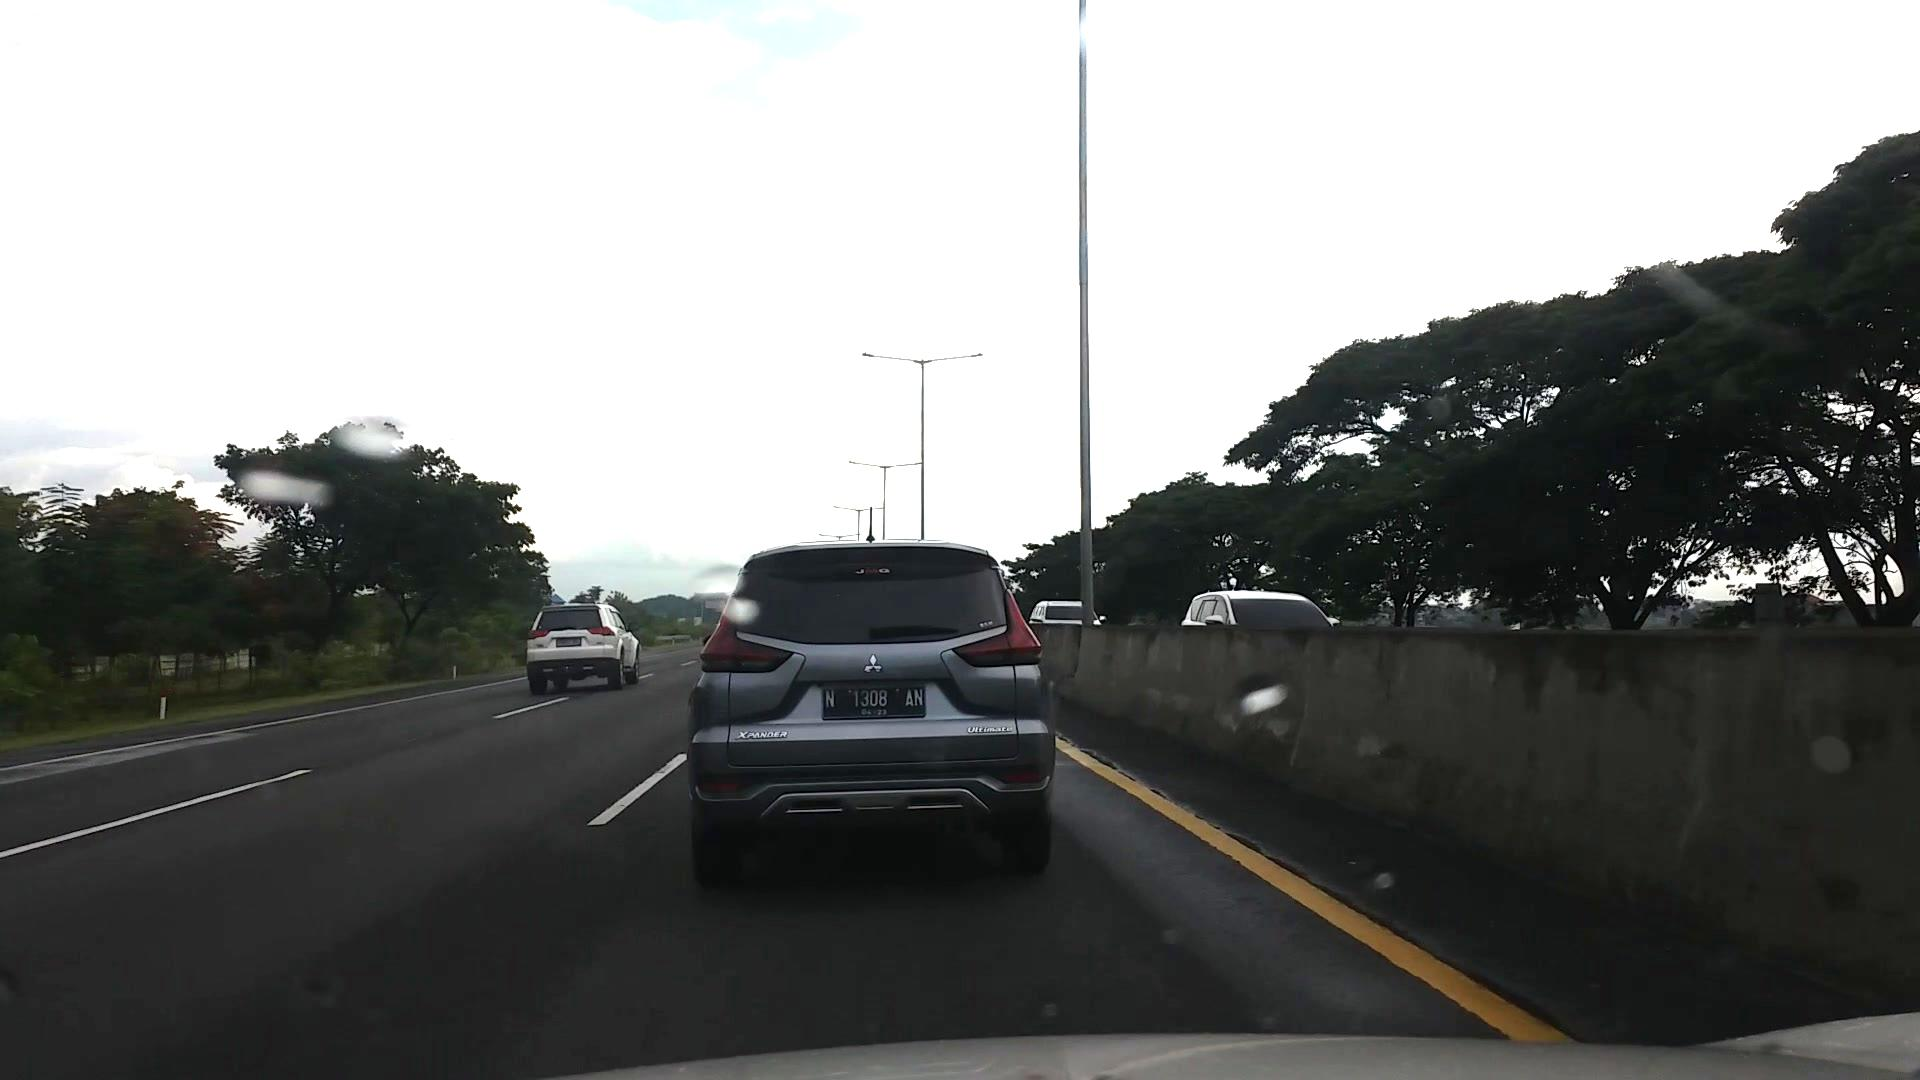plate_positive: (823, 684, 926, 719)
